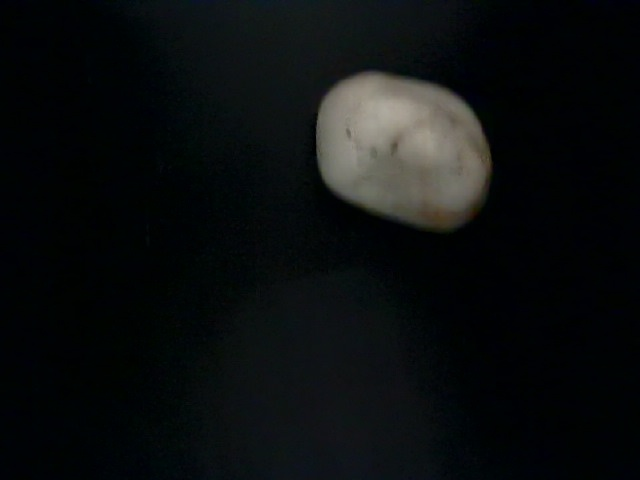QTLJ: (307, 104, 533, 380)
